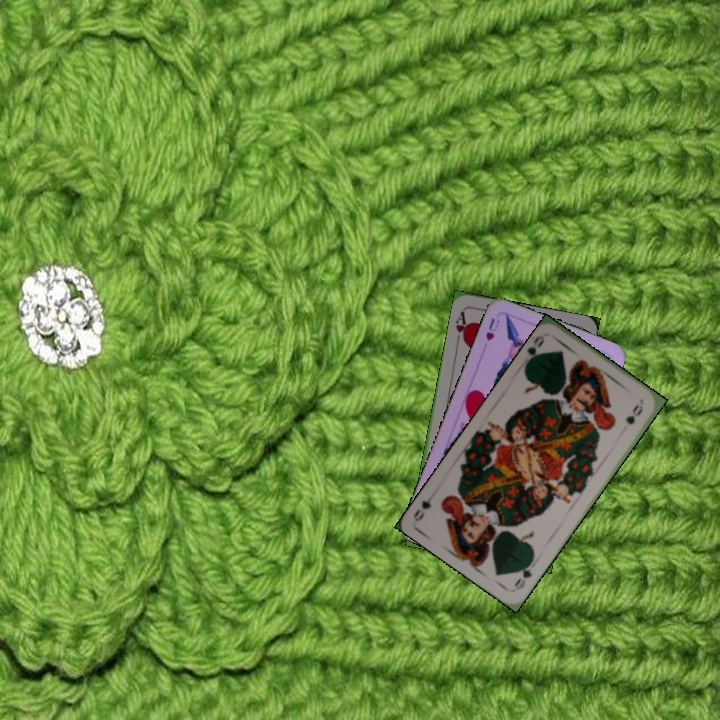GO: (510, 554, 536, 593), (522, 331, 547, 368)
HA: (451, 307, 471, 347)
HU: (482, 314, 503, 343)
